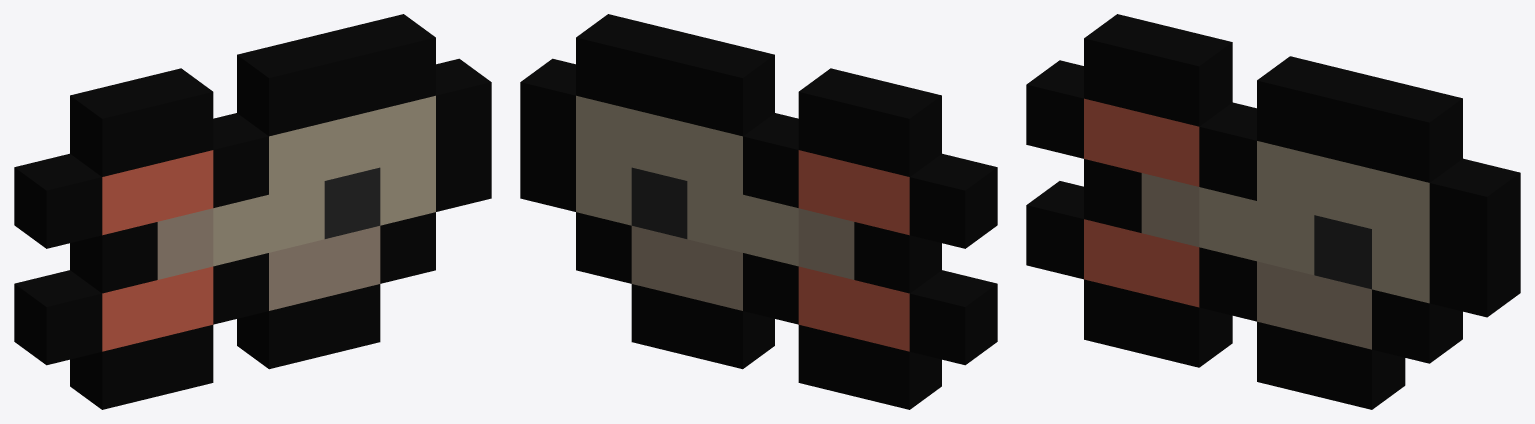
Rendered from Sunset Minnow.glb.
3 renders of one model, left to right at view 1: azimuth 30°, elevation 25°; view 2: azimuth 150°, elevation 25°; view 3: azimuth 330°, elevation 25°, orthographic. The views are drawn at different scales.
Visible parts, largest first — view 1: generated(Clone); view 2: generated(Clone); view 3: generated(Clone).
Part boxes in pixels (x1,y1,x2,y2): generated(Clone): (14, 14, 491, 409); generated(Clone): (520, 14, 997, 409); generated(Clone): (1026, 14, 1520, 409).
Size of the model in its own units: 8 by 5 by 1.
Materials: 1 (1 with a texture image).
